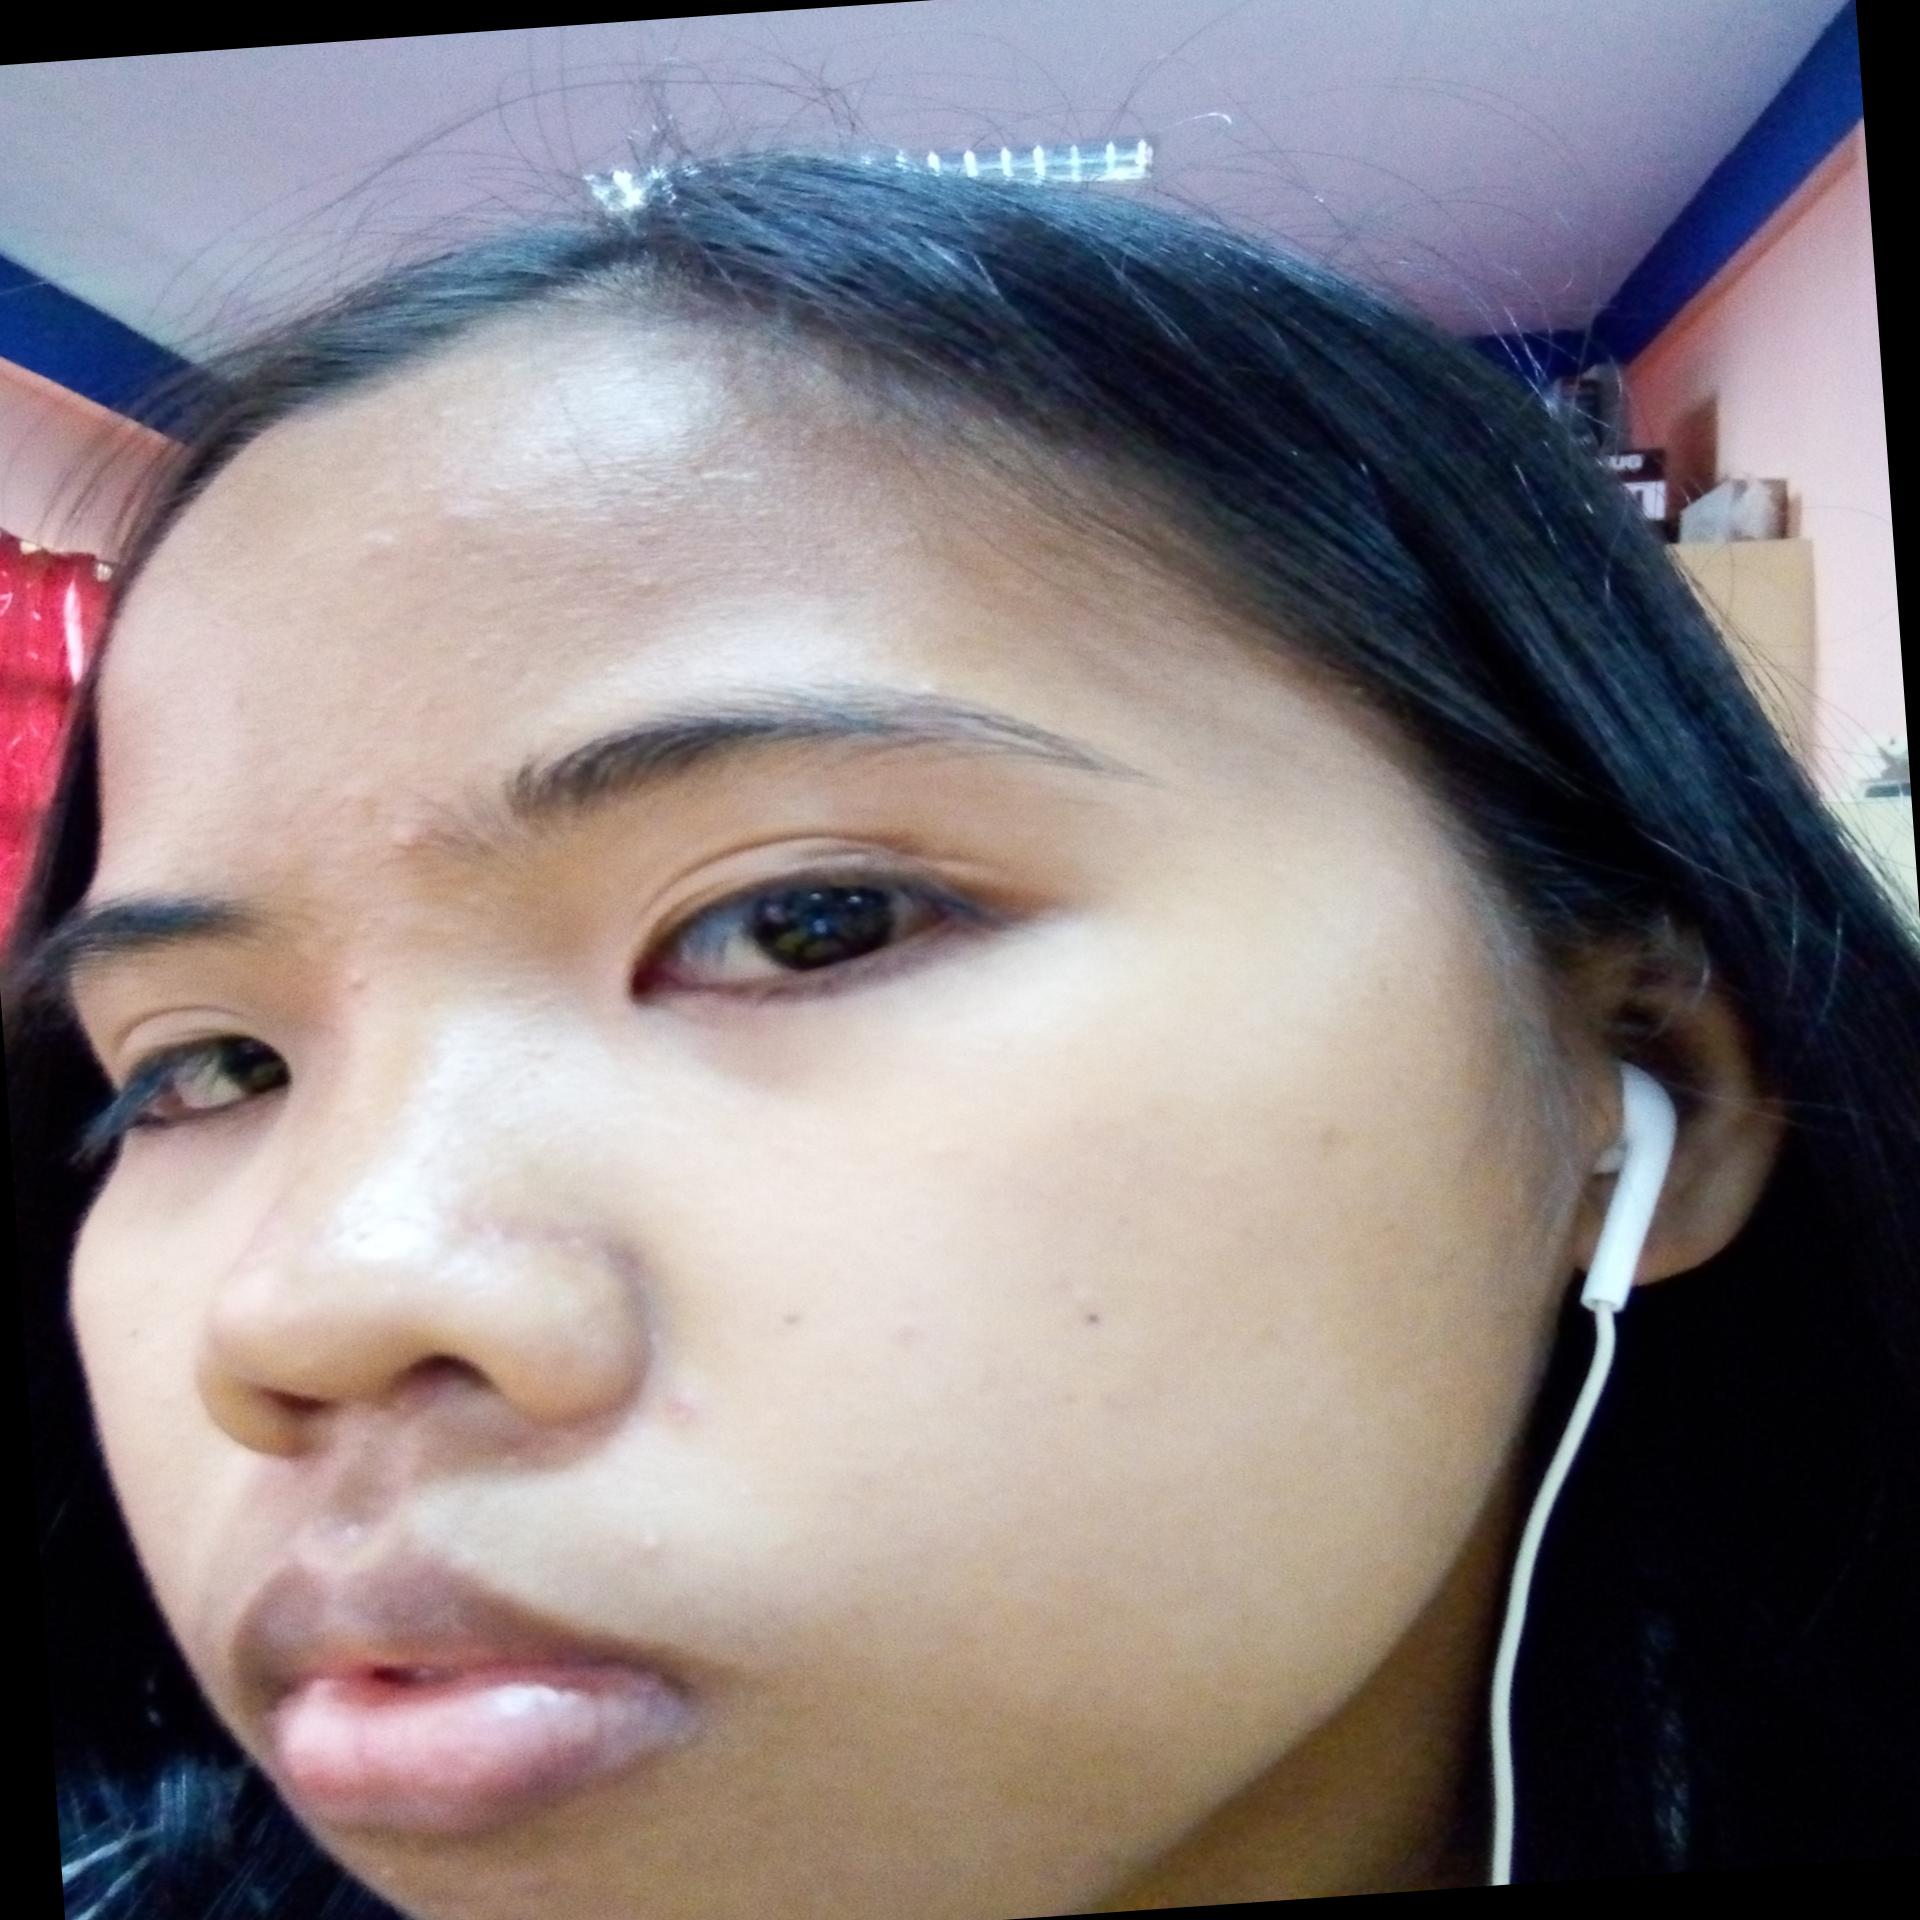Acne: (638, 1384, 710, 1451), (638, 1496, 687, 1582), (498, 1436, 531, 1498), (382, 811, 406, 870), (608, 573, 654, 598), (338, 974, 362, 988)
